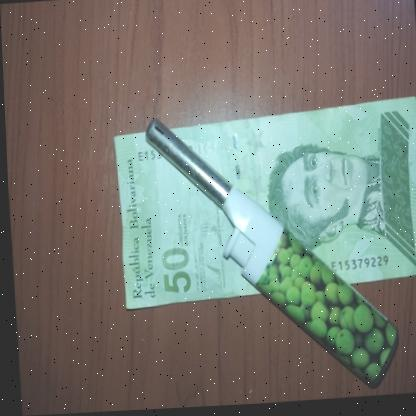vef_front: (111, 100, 416, 311)
